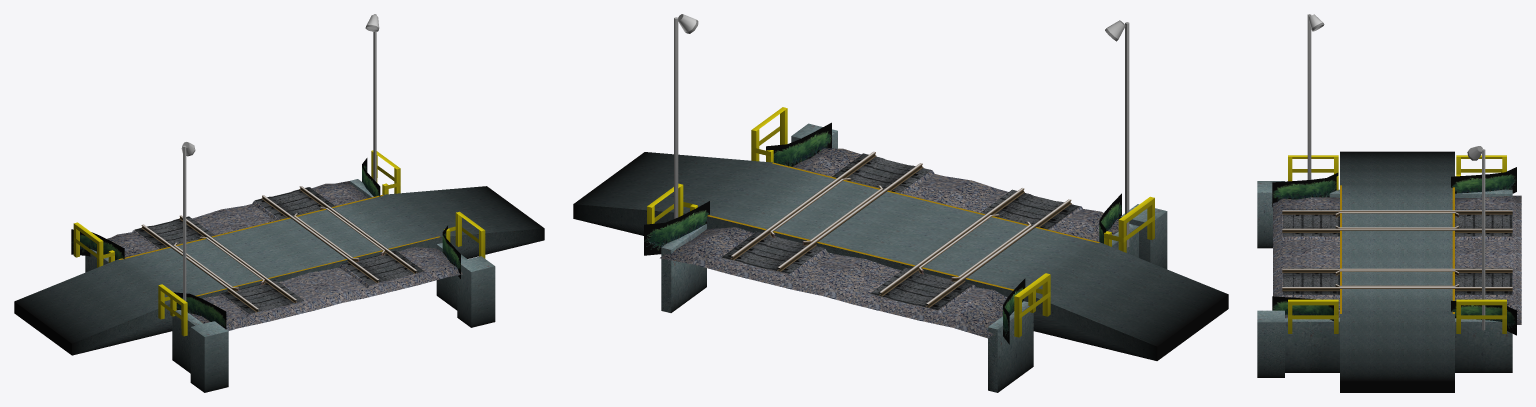
Rendered from HUMIKIRI_KYO.glb.
3 views of the same model, side by side, from view 1: azimuth 30°, elevation 25°; view 2: azimuth 150°, elevation 25°; view 3: azimuth 270°, elevation 25° (orthographic). The views are drawn at different scales.
Parts seen in each view (by area): view 1: rail2, obj6, obj3, obj4, obj2; view 2: rail2, obj6, obj4, obj2, obj3; view 3: rail2, obj6, obj4, obj2, obj3.
Part boxes in pixels (left/top/right/bottom): rail2: left=14, top=186, right=544, bottom=355; obj6: left=85, top=179, right=467, bottom=373; obj3: left=190, top=256, right=495, bottom=392; obj4: left=158, top=142, right=485, bottom=336; obj2: left=71, top=14, right=400, bottom=267; rail2: left=573, top=152, right=1228, bottom=360; obj6: left=660, top=148, right=1138, bottom=392; obj4: left=751, top=20, right=1154, bottom=252; obj2: left=644, top=14, right=1050, bottom=344; obj3: left=791, top=123, right=1167, bottom=269; rail2: left=1335, top=151, right=1458, bottom=392; obj6: left=1273, top=189, right=1521, bottom=372; obj4: left=1272, top=14, right=1338, bottom=333; obj2: left=1451, top=146, right=1516, bottom=335; obj3: left=1257, top=181, right=1284, bottom=377.
Size of the model in its own units: 59 by 27.2 by 28.72.
14 materials, 8 textured.
